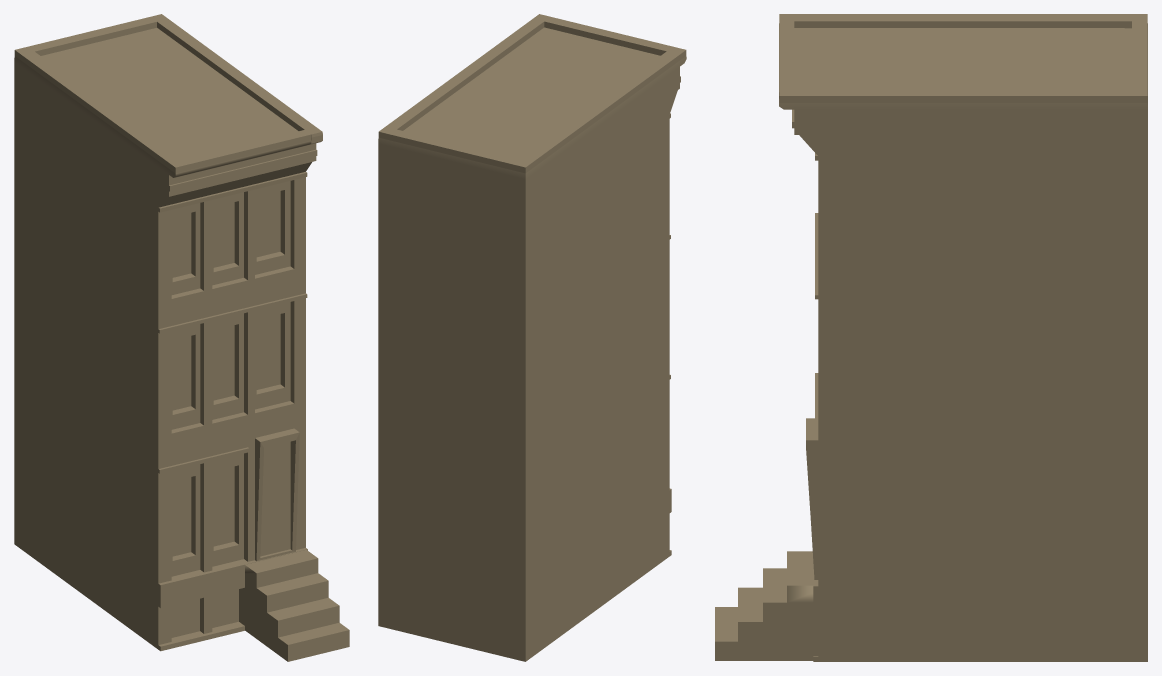
The model's file is building2.fbx.
3 renders of one model, left to right at view 1: azimuth 30°, elevation 25°; view 2: azimuth 150°, elevation 25°; view 3: azimuth 270°, elevation 25°, orthographic. The views are drawn at different scales.
Parts seen in each view (by area): view 1: stairobj:pCube3; view 2: stairobj:pCube3; view 3: stairobj:pCube3.
Part boxes in pixels (left/top/right/bottom): stairobj:pCube3: left=14, top=14, right=349, bottom=661; stairobj:pCube3: left=378, top=14, right=686, bottom=661; stairobj:pCube3: left=715, top=14, right=1147, bottom=661.
Size of the model in its own units: 4.5 by 14.43 by 10.
